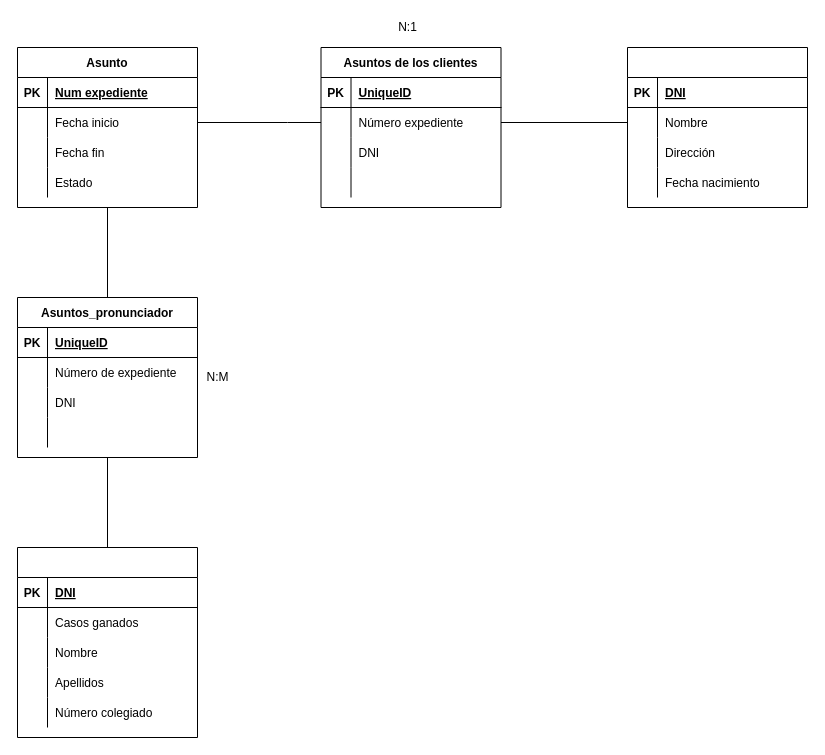
The diagram is 825 pixels wide and 755 high, and some of its shapes have lost their labels. Each missing label, with the box of its shape:
CLiente: (626, 46, 808, 208)
Procurador: (16, 546, 198, 738)
